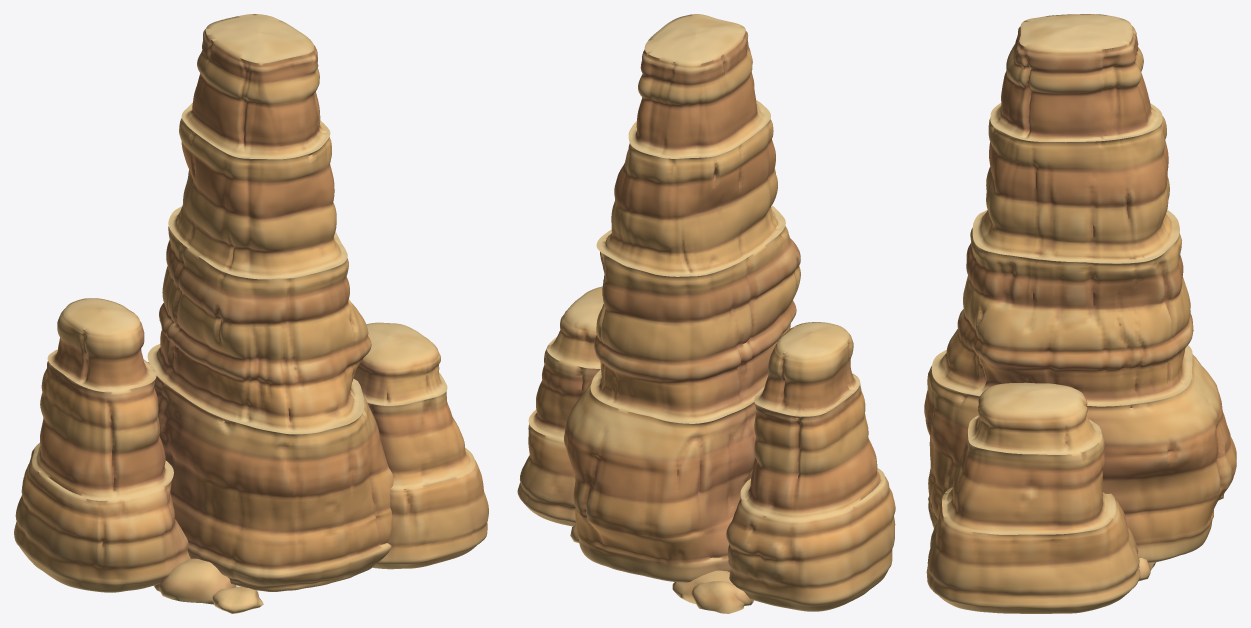
Rendered from SD_B02_Butte_Trio.fbx.
The picture shows the model from 3 angles, left to right: view 1: azimuth 30°, elevation 25°; view 2: azimuth 150°, elevation 25°; view 3: azimuth 270°, elevation 25°; orthographic projection.
Parts seen in each view (by area): view 1: Butte_01_LOD0, Butte_02_LOD0, Butte_03_LOD0; view 2: Butte_01_LOD0, Butte_02_LOD0, Butte_03_LOD0; view 3: Butte_01_LOD0, Butte_03_LOD0.
Boxes of the visible parts, x1=… form: Butte_01_LOD0: x1=147, y1=14, x2=393, y2=613; Butte_02_LOD0: x1=14, y1=298, x2=236, y2=604; Butte_03_LOD0: x1=353, y1=322, x2=488, y2=569; Butte_01_LOD0: x1=564, y1=14, x2=800, y2=582; Butte_02_LOD0: x1=672, y1=322, x2=895, y2=613; Butte_03_LOD0: x1=517, y1=286, x2=603, y2=542; Butte_01_LOD0: x1=924, y1=14, x2=1236, y2=562; Butte_03_LOD0: x1=926, y1=382, x2=1155, y2=613.
Size of what is drawn, in the model's own units: 14 by 18 by 10.
